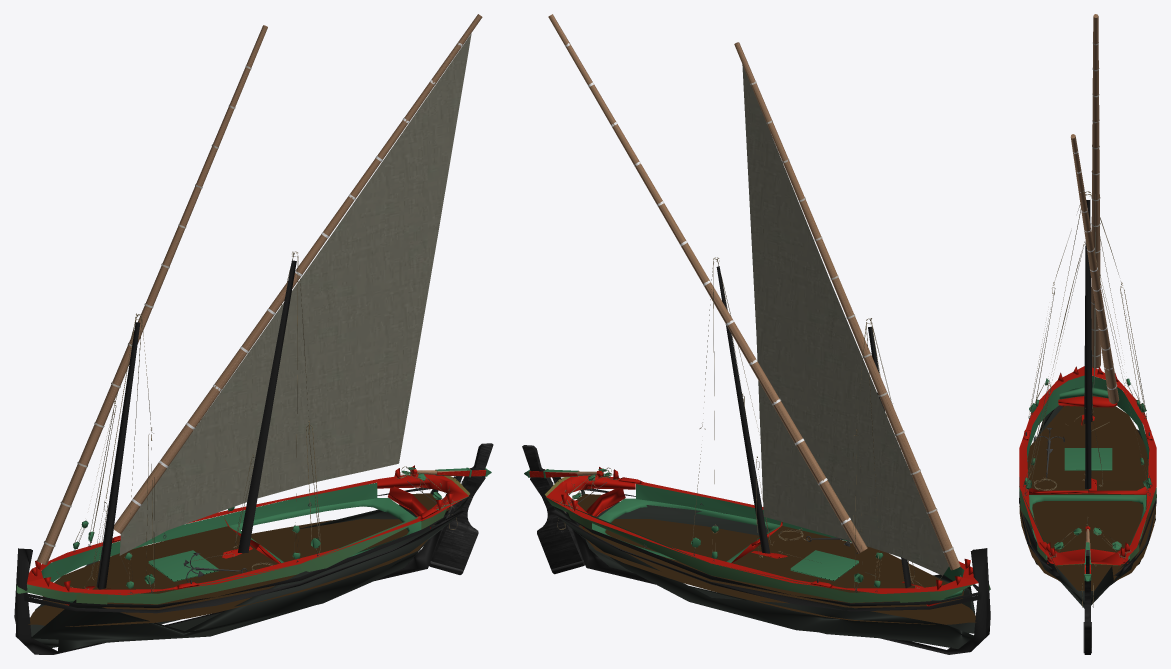
Rendered from falua.glb.
3 views of the same model, side by side, from view 1: azimuth 30°, elevation 25°; view 2: azimuth 150°, elevation 25°; view 3: azimuth 270°, elevation 25° (orthographic). The views are drawn at different scales.
Parts seen in each view (by area): view 1: Vela Principal, lite_static, Mastro04, Mastro03, Leme01; view 2: lite_static, Vela Frente, Mastro04, Mastro03, Leme01; view 3: lite_static, Mastro03, Mastro04, Leme01.
Part boxes in pixels (left/top/right/bottom): Vela Principal: left=119, top=33, right=471, bottom=555; lite_static: left=14, top=251, right=469, bottom=654; Mastro04: left=113, top=14, right=482, bottom=533; Mastro03: left=37, top=25, right=267, bottom=564; Leme01: left=429, top=443, right=493, bottom=574; lite_static: left=545, top=257, right=990, bottom=654; Vela Frente: left=742, top=64, right=948, bottom=575; Mastro04: left=548, top=14, right=867, bottom=553; Mastro03: left=734, top=42, right=960, bottom=570; Leme01: left=522, top=445, right=584, bottom=574; lite_static: left=1019, top=191, right=1156, bottom=653; Mastro03: left=1091, top=14, right=1100, bottom=368; Mastro04: left=1070, top=134, right=1119, bottom=403; Leme01: left=1084, top=550, right=1090, bottom=654.
Bounding box in the file's own units: 1152 × 1362 × 307.
16 materials, 5 textured.
